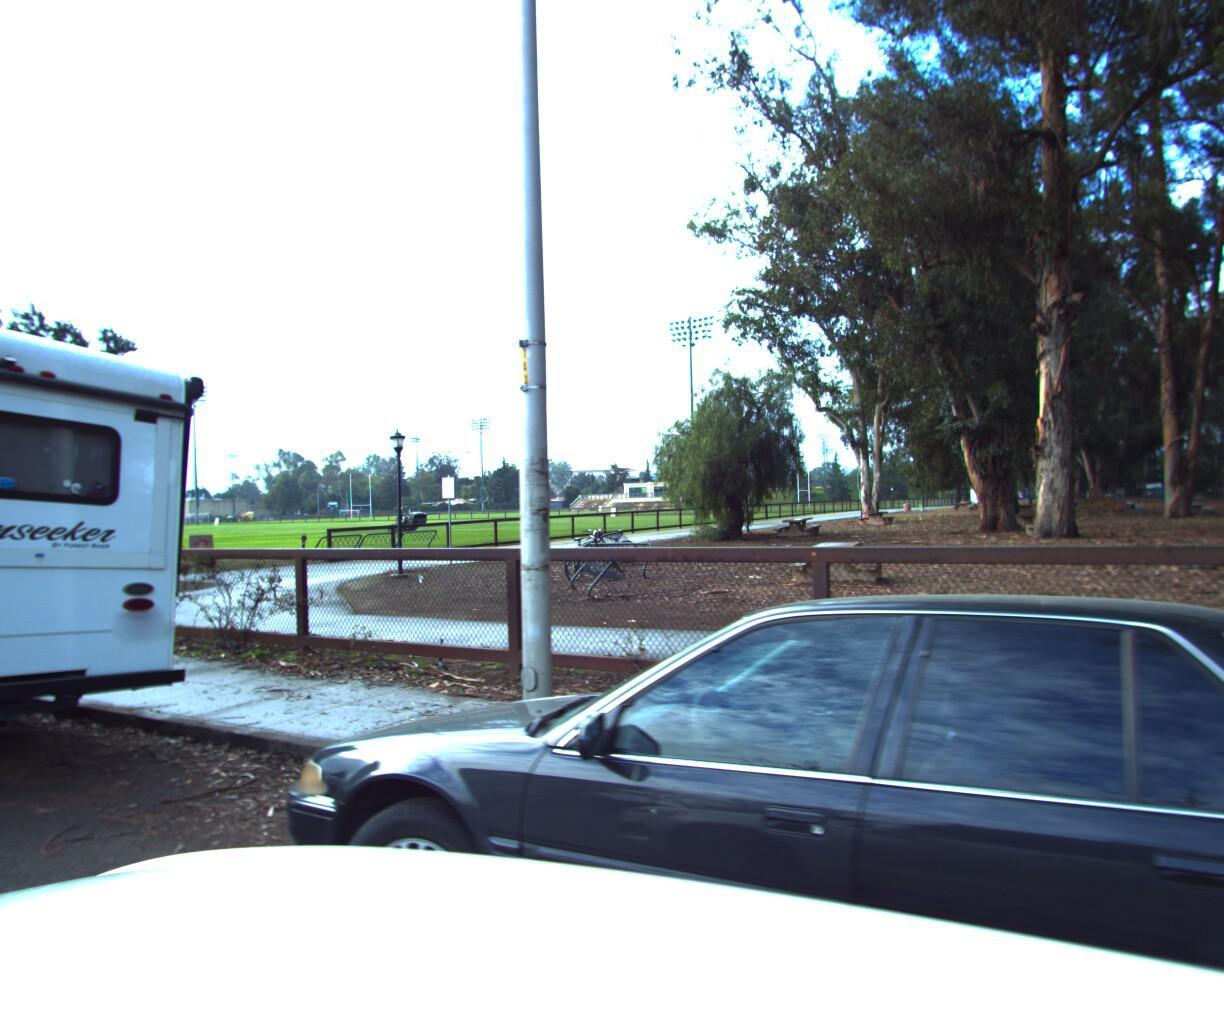car: (187, 558, 1224, 1024)
other_vehicle: (0, 230, 237, 864), (385, 496, 432, 525)
